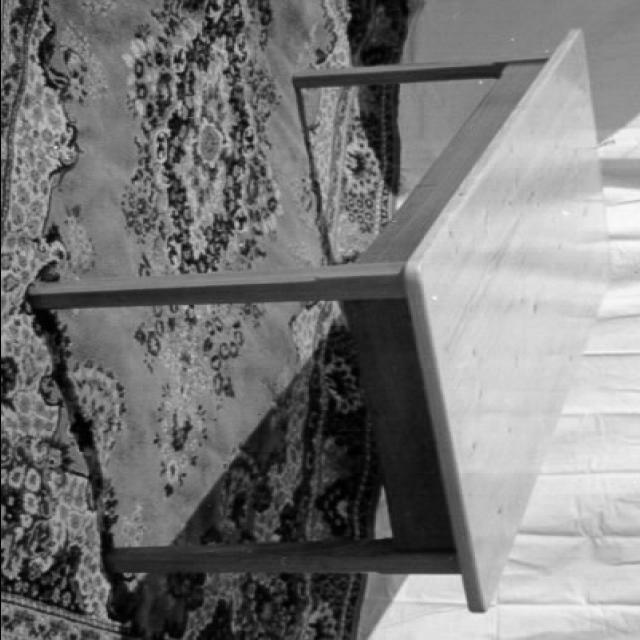table: (32, 3, 616, 611)
